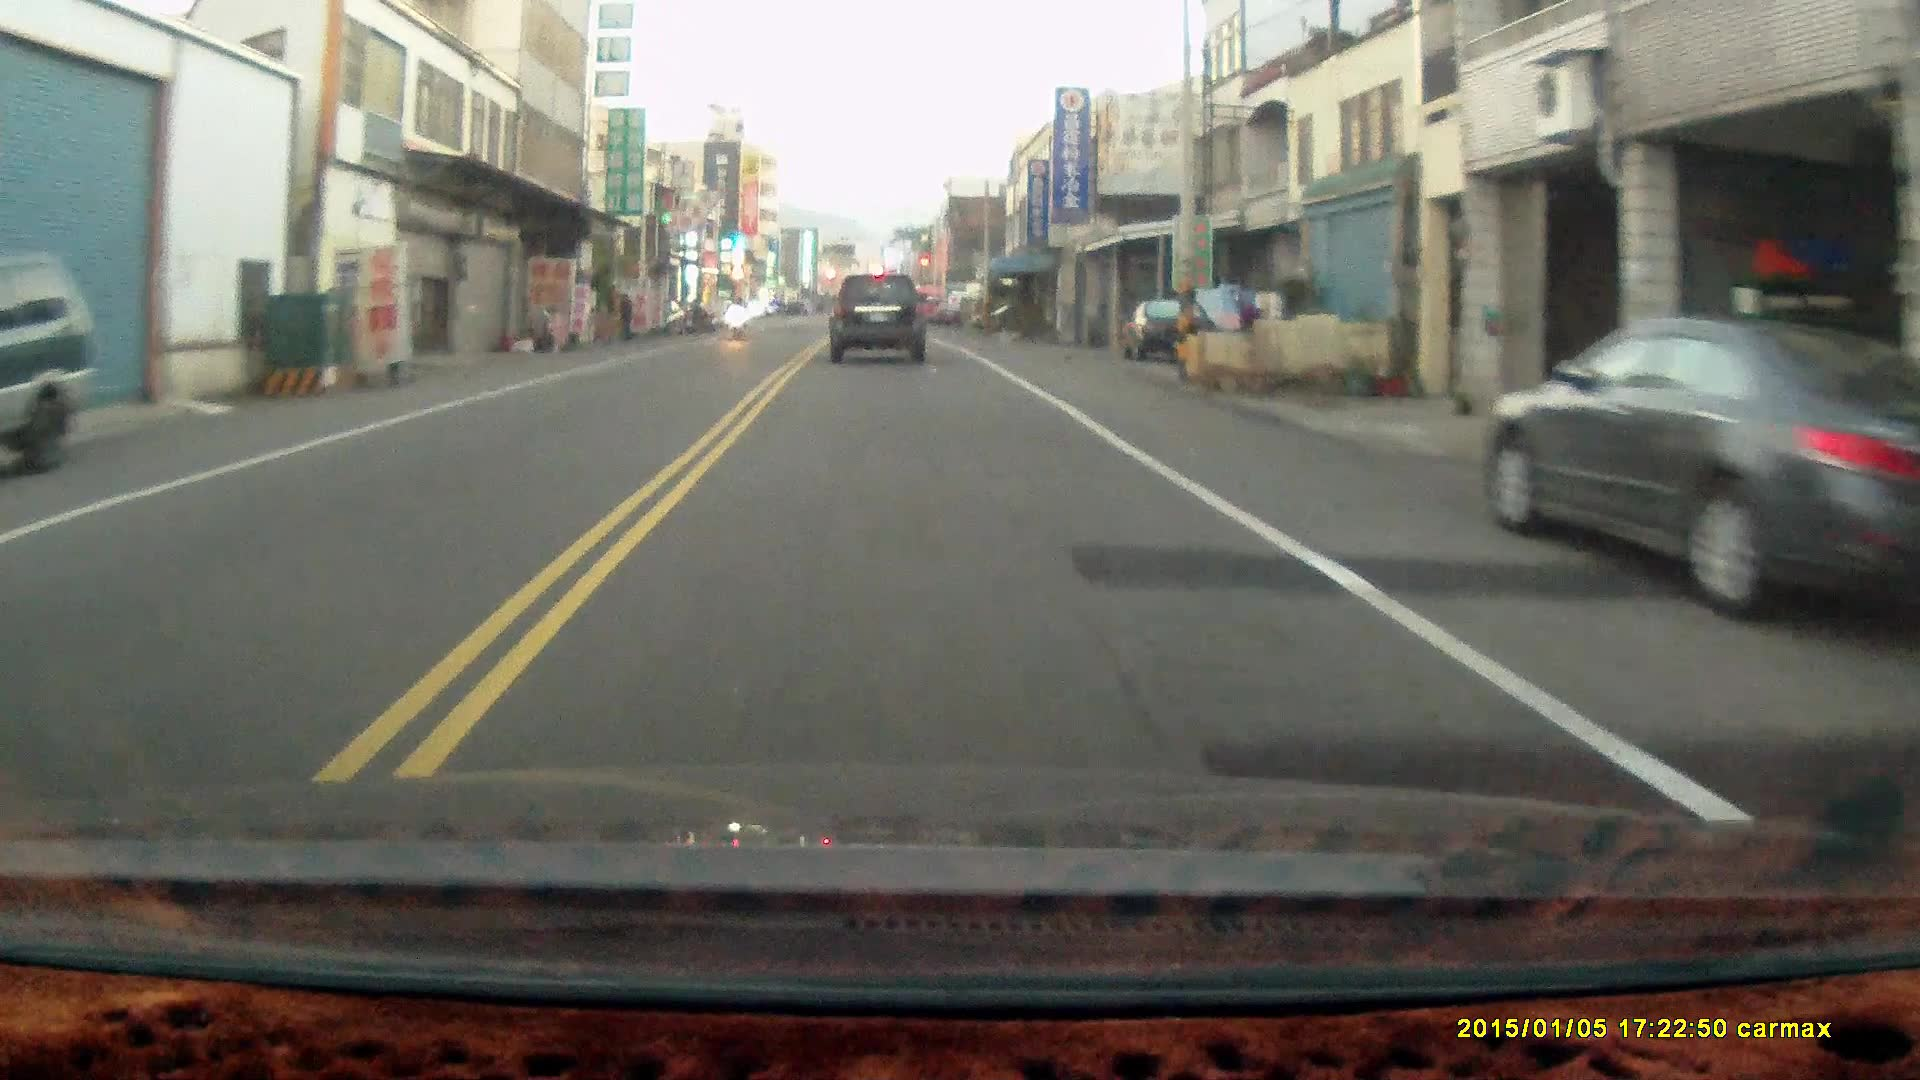pedestrian: (614, 292, 635, 343)
rider: (721, 288, 748, 338)
vehicle: (1480, 313, 1920, 636), (1, 250, 103, 480), (828, 276, 929, 370), (1122, 298, 1221, 366)
